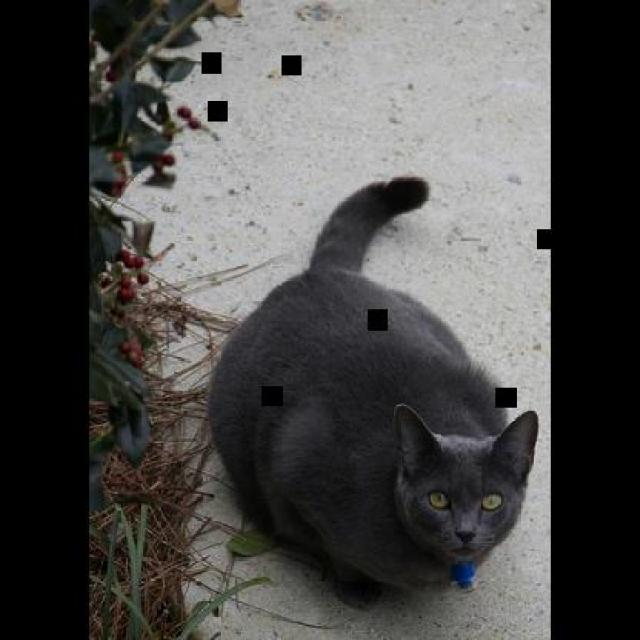unauthorized: (206, 174, 539, 609)
